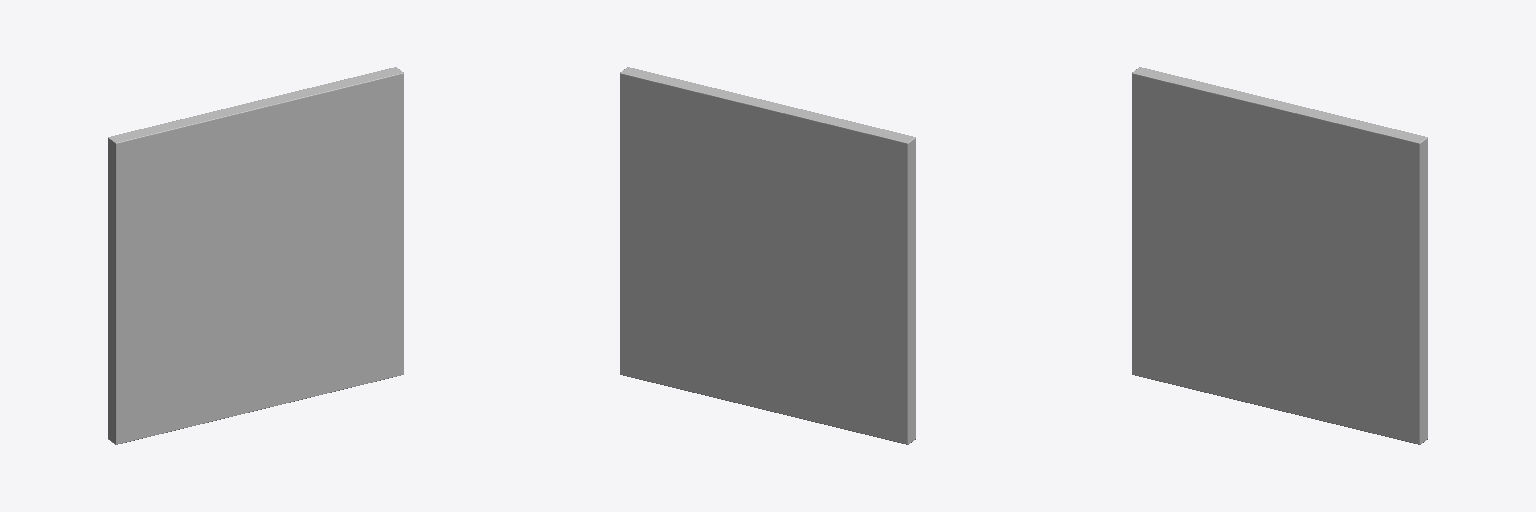
Rendered from chessboard3.obj.
The picture shows the model from 3 angles: view 1: azimuth 30°, elevation 25°; view 2: azimuth 150°, elevation 25°; view 3: azimuth 330°, elevation 25°; orthographic projection.
Visible parts, largest first — view 1: chessboard; view 2: chessboard; view 3: chessboard.
Part boxes in pixels (x1,y1,x2,y2): chessboard: (108,67,403,444); chessboard: (620,67,915,444); chessboard: (1132,67,1427,444).
Bounding box in the file's own units: 39 × 39 × 2.